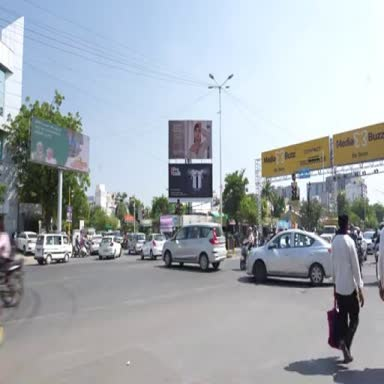Car: (246, 230, 332, 286), (162, 224, 226, 271), (34, 234, 72, 264), (141, 234, 165, 260), (99, 236, 122, 260), (15, 232, 38, 256), (129, 233, 146, 254), (90, 235, 102, 254), (364, 232, 374, 254), (321, 234, 334, 244), (375, 242, 379, 263)
